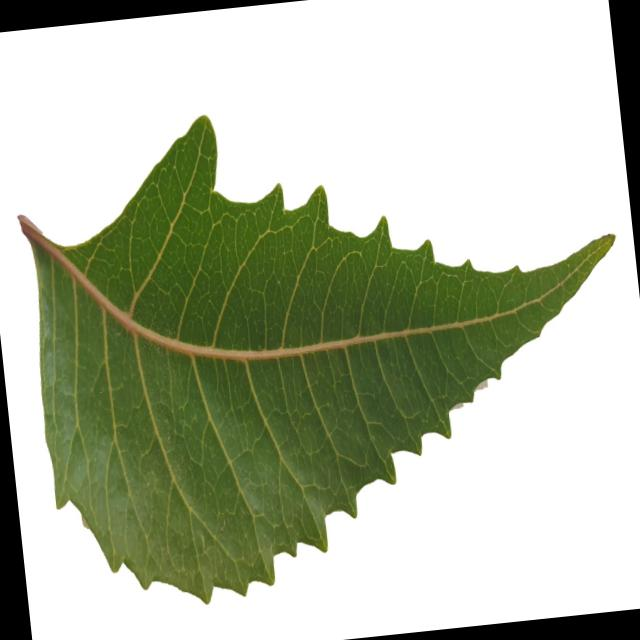Medicinal-Neem: (0, 73, 640, 617)
